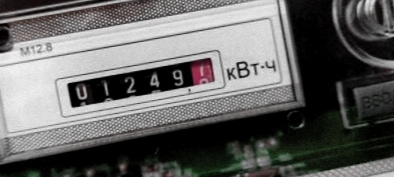0: (72, 81, 88, 103)
1: (97, 78, 109, 98)
2: (121, 75, 136, 96)
4: (145, 71, 159, 91)
7: (192, 59, 207, 79)
9: (168, 67, 184, 90)
screen: (45, 50, 224, 118)
